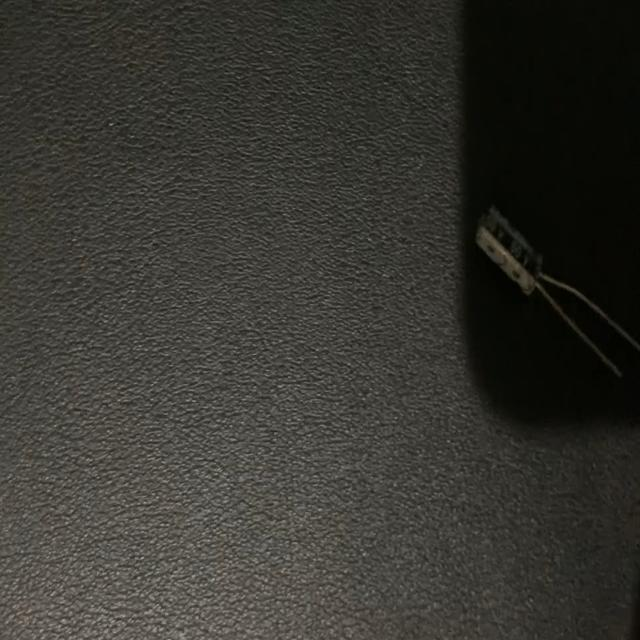capacitor: (476, 198, 640, 372)
